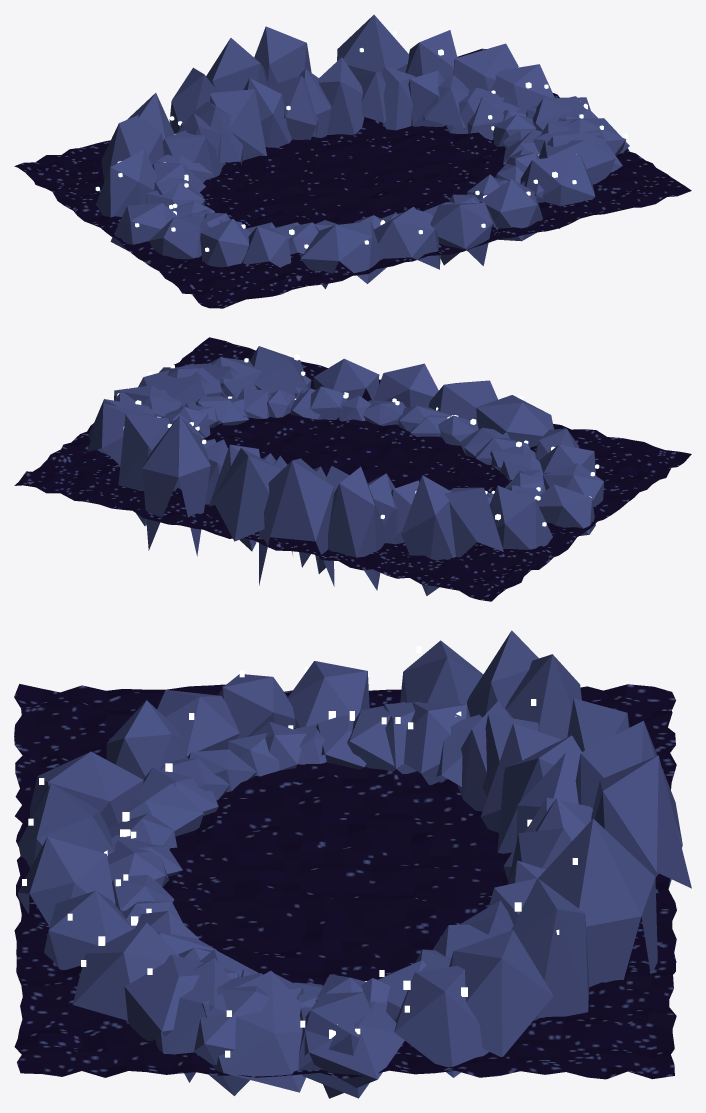
File: cave.glb
3 renders of one model, top to bottom at view 1: azimuth 30°, elevation 25°; view 2: azimuth 150°, elevation 25°; view 3: azimuth 270°, elevation 25°, orthographic. The views are drawn at different scales.
Parts seen in each view (by area): view 1: Floor, Rock47, Rock45, Rock43, Rock58, Rock46, Rock52, Rock32, Rock28, Rock44, Rock57, Rock53 (+34 smaller); view 2: Floor, Rock56, Rock58, Rock55, Rock57, Rock54, Rock52, Rock53, Rock47, Rock59, Rock45, Rock51 (+35 smaller); view 3: Floor, Rock58, Rock60, Rock57, Rock59, Rock41, Rock61, Rock43, Rock45, Rock40, Rock47, Rock44 (+44 smaller).
Part boxes in pixels (x1=…): Floor: x1=14, y1=48, x2=691, y2=308; Rock47: x1=300, y1=221, x2=386, y2=288; Rock45: x1=430, y1=202, x2=497, y2=265; Rock43: x1=520, y1=154, x2=595, y2=228; Rock58: x1=337, y1=14, x2=409, y2=76; Rock46: x1=373, y1=206, x2=440, y2=269; Rock52: x1=95, y1=149, x2=157, y2=217; Rock32: x1=317, y1=57, x2=364, y2=134; Rock28: x1=209, y1=89, x2=266, y2=162; Rock44: x1=479, y1=179, x2=542, y2=241; Rock57: x1=254, y1=26, x2=311, y2=85; Rock53: x1=101, y1=115, x2=164, y2=182; Floor: x1=14, y1=337, x2=691, y2=601; Rock56: x1=259, y1=458, x2=334, y2=586; Rock58: x1=142, y1=415, x2=210, y2=556; Rock55: x1=328, y1=466, x2=384, y2=590; Rock57: x1=212, y1=448, x2=293, y2=556; Rock54: x1=401, y1=475, x2=455, y2=595; Rock52: x1=489, y1=485, x2=552, y2=549; Rock53: x1=444, y1=487, x2=503, y2=557; Rock47: x1=476, y1=395, x2=553, y2=447; Rock59: x1=118, y1=414, x2=177, y2=525; Rock45: x1=373, y1=363, x2=438, y2=407; Rock51: x1=535, y1=484, x2=595, y2=535; Floor: x1=14, y1=684, x2=676, y2=1079; Rock58: x1=538, y1=818, x2=657, y2=987; Rock60: x1=449, y1=930, x2=553, y2=1056; Rock57: x1=591, y1=755, x2=691, y2=888; Rock59: x1=511, y1=878, x2=589, y2=1018; Rock41: x1=202, y1=970, x2=305, y2=1092; Rock61: x1=394, y1=965, x2=489, y2=1077; Rock43: x1=72, y1=922, x2=179, y2=1020; Rock45: x1=17, y1=837, x2=115, y2=926; Rock40: x1=299, y1=1001, x2=404, y2=1098; Rock47: x1=30, y1=751, x2=143, y2=827; Rock44: x1=44, y1=890, x2=133, y2=969.
Size of the model in its own units: 14.13 by 3.81 by 10.37.
Materials: 3 (1 with a texture image).
